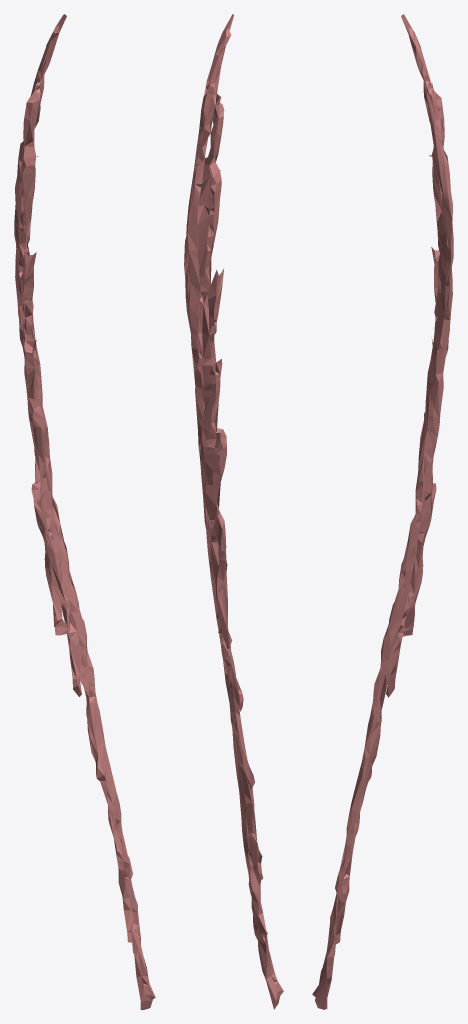
Rendered from Spinalis_thoracis_muscle.l.glb.
3 renders of one model, left to right at view 1: azimuth 90°, elevation 25°; view 2: azimuth 150°, elevation 25°; view 3: azimuth 270°, elevation 25°, orthographic. The views are drawn at different scales.
Visible parts, largest first — view 1: Spinalis_thoracis_muscle.l; view 2: Spinalis_thoracis_muscle.l; view 3: Spinalis_thoracis_muscle.l.
Part boxes in pixels (left/top/right/bottom): Spinalis_thoracis_muscle.l: left=14, top=14, right=155, bottom=1009; Spinalis_thoracis_muscle.l: left=184, top=14, right=283, bottom=1009; Spinalis_thoracis_muscle.l: left=312, top=14, right=453, bottom=1009.
Bounding box in the file's own units: 0.0117 × 0.3764 × 0.0485.
